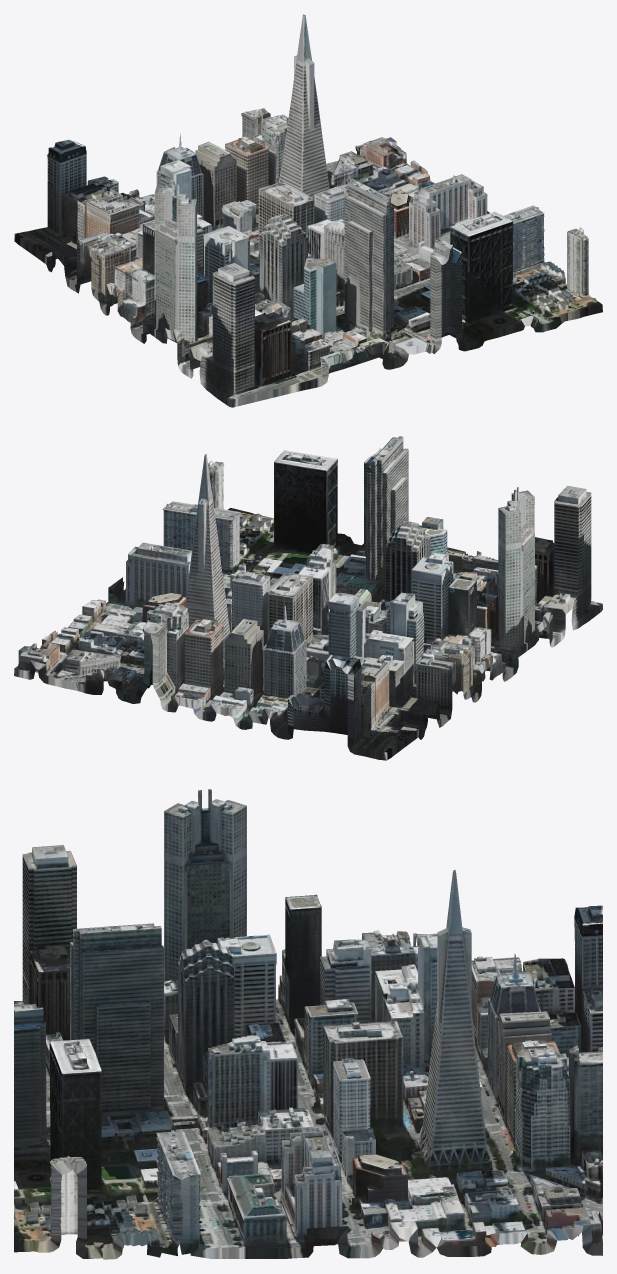
Rendered from z16-10485-25326-h0-yup-uvflip-v3-world.glb.
3 views of the same model, one above another, from view 1: azimuth 30°, elevation 25°; view 2: azimuth 150°, elevation 25°; view 3: azimuth 270°, elevation 25° (orthographic). The views are drawn at different scales.
Bounding box in the file's own units: 484 × 271 × 485.
Materials: 1 (1 with a texture image).
